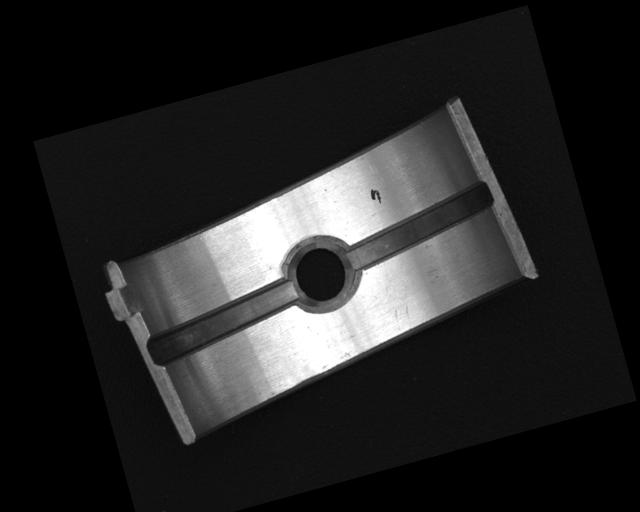blot: (369, 186, 383, 206)
gap: (139, 274, 309, 369), (338, 181, 501, 276)
hole: (283, 233, 363, 316)
